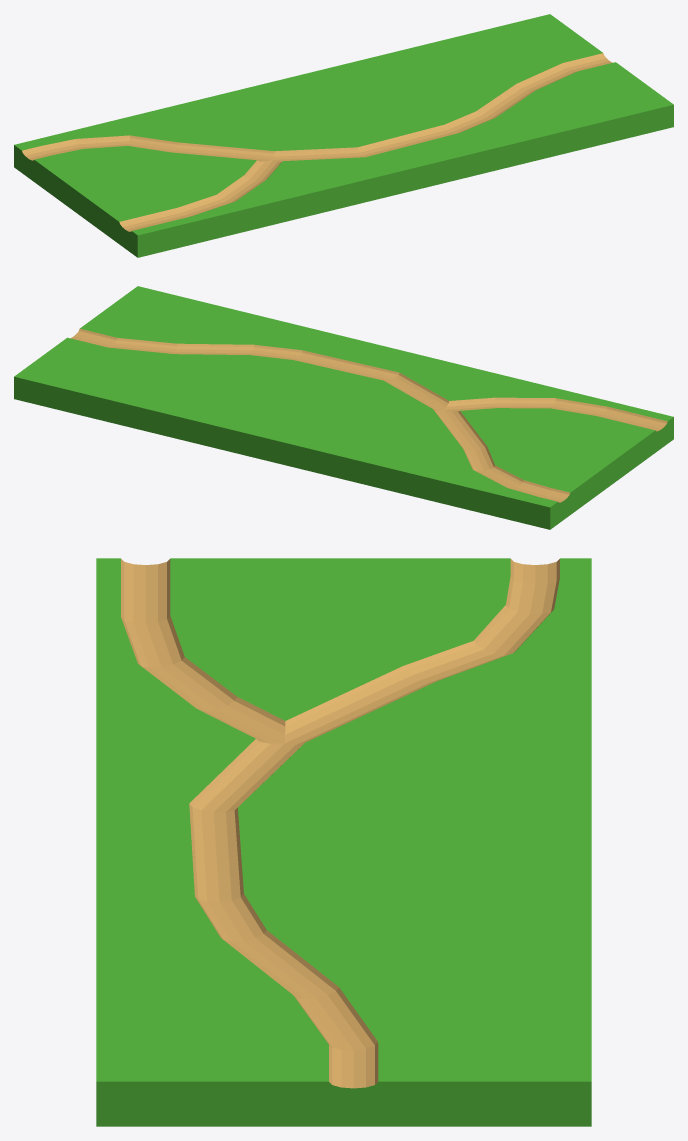
File: way6.fbx
The picture shows the model from 3 angles, top to bottom: view 1: azimuth 30°, elevation 25°; view 2: azimuth 150°, elevation 25°; view 3: azimuth 270°, elevation 25°; orthographic projection. The views are drawn at different scales.
Visible parts, largest first — view 1: ground.002; view 2: ground.002; view 3: ground.002.
Part boxes in pixels (box(x1,y1,x2,y2)): ground.002: box(14, 14, 673, 257); ground.002: box(14, 286, 673, 529); ground.002: box(96, 558, 591, 1126).
Size of the model in its own units: 5000 by 200 by 2000.
